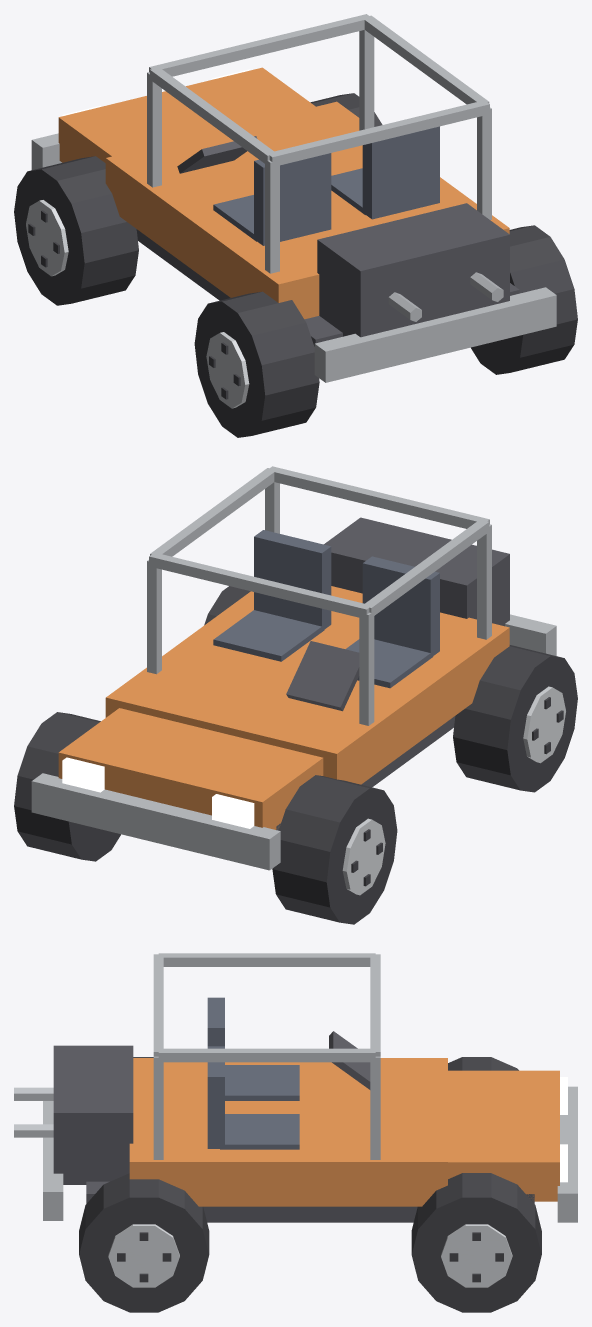
Rendered from buggy.glb.
3 views of the same model, one above another, from view 1: azimuth 30°, elevation 25°; view 2: azimuth 150°, elevation 25°; view 3: azimuth 270°, elevation 25° (orthographic). The views are drawn at different scales.
Visible parts, largest first — view 1: Body, WheelRL, WheelFL, WheelRR, WheelFR; view 2: Body, WheelFL, WheelRL, WheelFR, WheelRR; view 3: Body, WheelFR, WheelRR, WheelFL.
Boxes of the visible parts, x1=… form: Body: x1=31, y1=14, x2=556, y2=382; WheelRL: x1=194, y1=291, x2=319, y2=437; WheelFL: x1=14, y1=156, x2=138, y2=305; WheelRR: x1=471, y1=225, x2=577, y2=374; WheelFR: x1=310, y1=93, x2=382, y2=126; Body: x1=31, y1=466, x2=556, y2=870; WheelFL: x1=272, y1=775, x2=397, y2=924; WheelRL: x1=453, y1=645, x2=577, y2=792; WheelFR: x1=14, y1=712, x2=120, y2=861; WheelRR: x1=204, y1=586, x2=250, y2=625; Body: x1=14, y1=953, x2=577, y2=1222; WheelFR: x1=411, y1=1173, x2=541, y2=1312; WheelRR: x1=79, y1=1173, x2=209, y2=1312; WheelFL: x1=448, y1=1057, x2=518, y2=1070.
Size of the model in its own units: 2.39 by 1.82 by 3.9.
